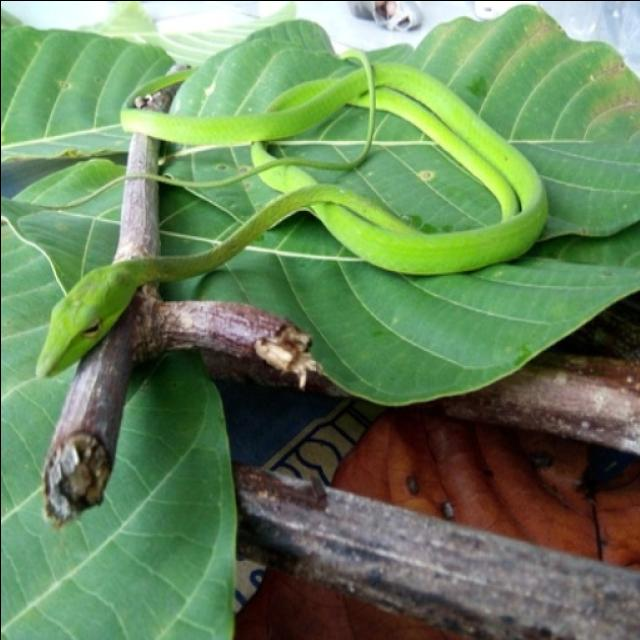snake: (14, 39, 552, 394)
